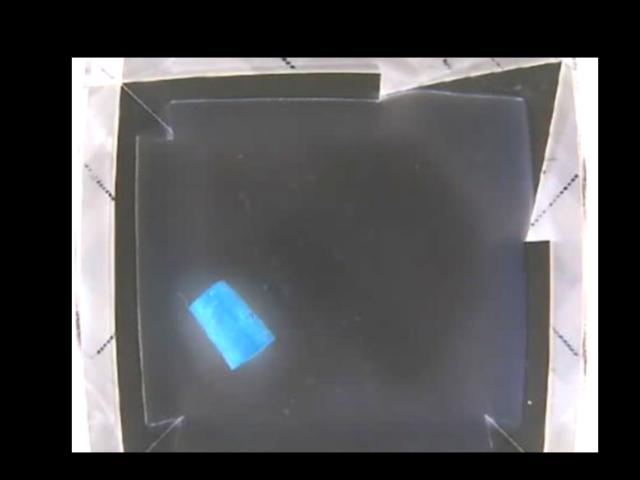Carrot: (189, 278, 276, 370)
